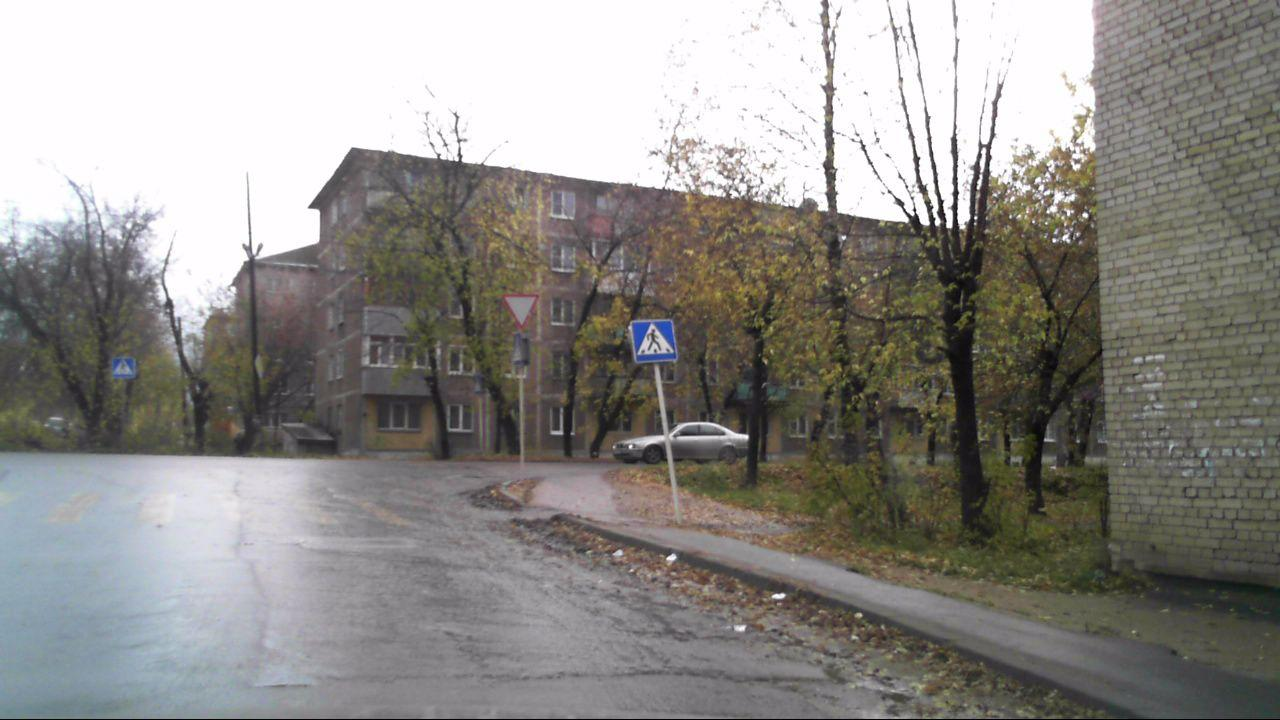2_4: (504, 294, 540, 327)
5_19_1: (627, 318, 680, 362), (112, 355, 136, 378)
5_19_2: (510, 335, 527, 365)
